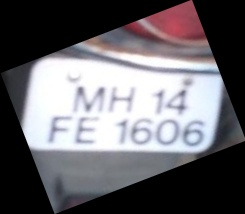character: (72, 86, 106, 113), (107, 86, 137, 112), (46, 114, 72, 143), (73, 115, 99, 144), (154, 117, 180, 146), (129, 116, 152, 145), (180, 119, 205, 145), (164, 87, 187, 115), (115, 118, 129, 145), (153, 88, 164, 115)
